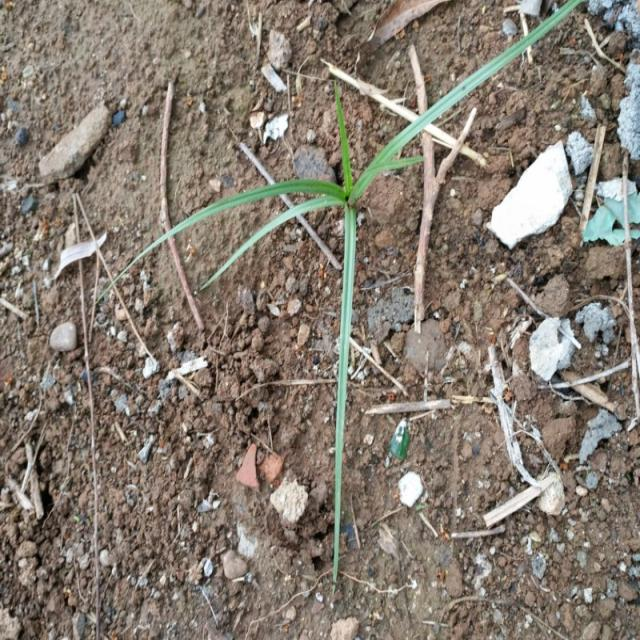sedge: (190, 5, 554, 502)
